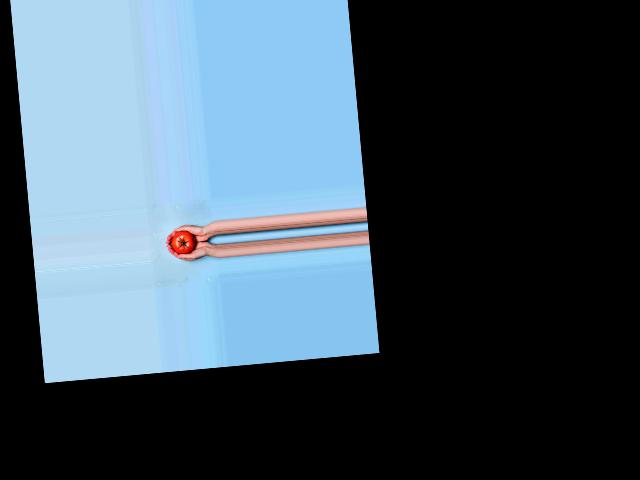tomato: (170, 230, 196, 255)
